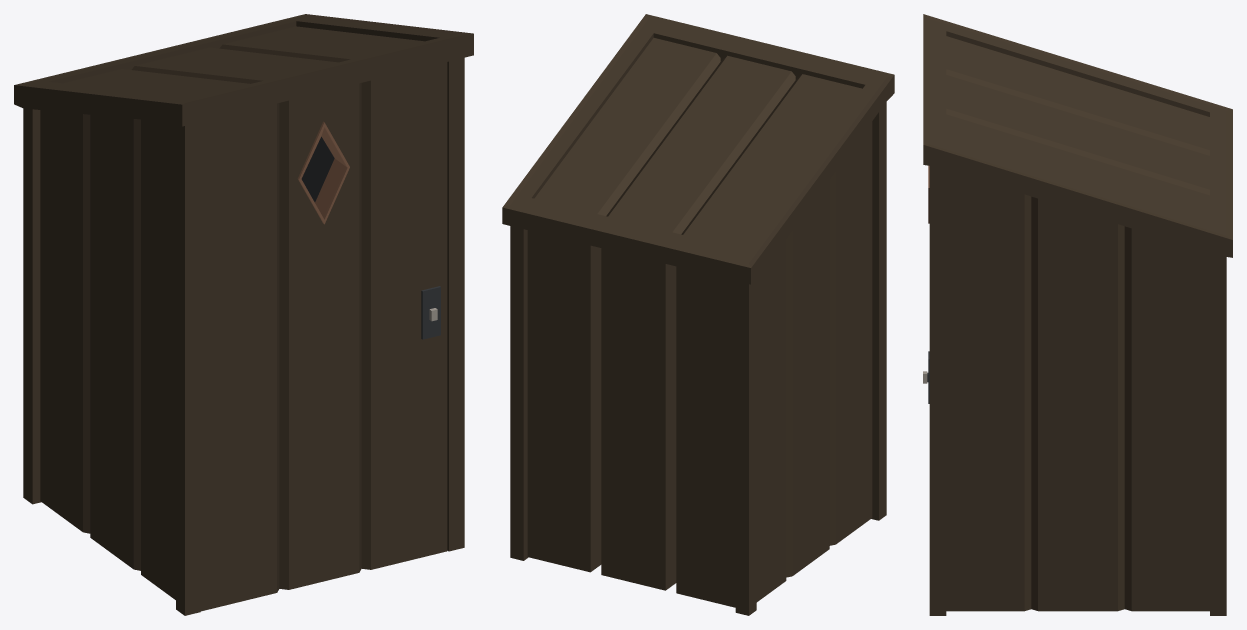
Rendered from Toilet_01_A.gltf.
3 renders of one model, left to right at view 1: azimuth 30°, elevation 25°; view 2: azimuth 150°, elevation 25°; view 3: azimuth 270°, elevation 25°, orthographic. The views are drawn at different scales.
Visible parts, largest first — view 1: ToiletDoor_01_A, Toilet_01_A; view 2: Toilet_01_A; view 3: Toilet_01_A.
Part boxes in pixels (bbox=[...]): ToiletDoor_01_A: bbox=[200, 62, 447, 611]; Toilet_01_A: bbox=[14, 14, 473, 615]; Toilet_01_A: bbox=[502, 14, 894, 615]; Toilet_01_A: bbox=[923, 14, 1232, 615].
Bounding box in the file's own units: 0.6626 × 1.12 × 0.6631.
